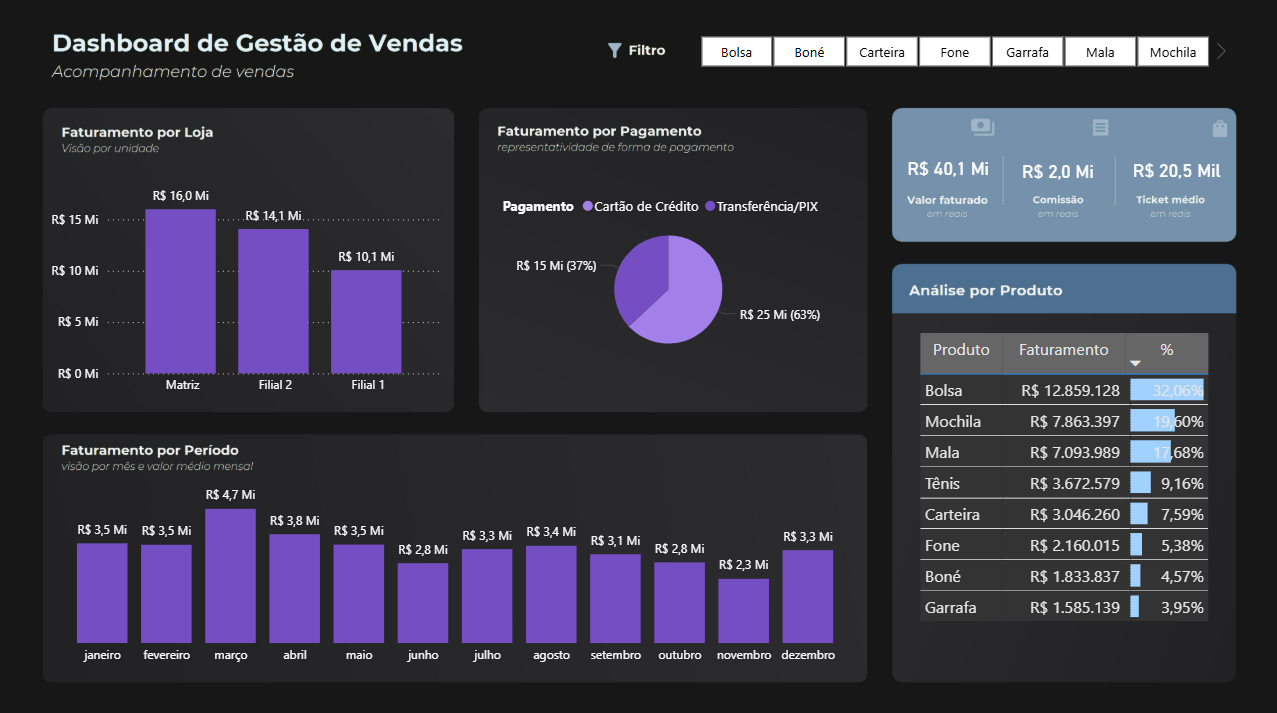

This screenshot's page, from the dashboard's own definition file:
{"tool":"powerbi","page":{"name":"Gestão de Vendas","canvas":[1280,720],"ordinal":0},"visuals":[{"type":"card","fields":{"Values":["Sum(Vendas.Valor Venda)"]},"box":[901.2,145.1,96.3,53.7],"z":0},{"type":"card","fields":{"Values":["Avg(Vendas.Valor Venda)"]},"box":[1120.7,137.8,113.4,74.4],"z":1000},{"type":"columnChart","title":"Faturamento por Período","fields":{"Category":["Vendas.Data Pedido.Variation.Hierarquia de datas.Mês"],"Y":["Sum(Vendas.Valor Venda)"]},"box":[47.6,476.8,818.3,200],"z":2000},{"type":"pieChart","title":"Faturamento por Pagamento","fields":{"Y":["Sum(Vendas.Valor Venda)"],"Category":["Vendas.Pagamento"]},"box":[498.8,189,341.5,178],"z":3000},{"type":"columnChart","title":"Faturamento por Loja","fields":{"Y":["Sum(Vendas.Valor Venda)"],"Category":["lojas.nome_loja"]},"box":[47.6,172,401.2,234.1],"z":4000},{"type":"tableEx","fields":{"Values":["Vendas.Produto","Sum(Vendas.Valor Venda)","Divide(Sum(Vendas.Valor Venda), ScopedEval(Sum(Vendas.Valor Venda), []))"]},"box":[914.6,331.7,319.5,345.1],"z":5000},{"type":"slicer","fields":{"Values":["Vendas.Produto"]},"box":[676.8,32.9,557.3,43.9],"z":6000},{"type":"card","fields":{"Values":["Vendas.Comissão"]},"box":[997.6,148.8,123.2,53.7],"z":7000}]}

Visuals, with their boxes in screenshot pixels (x1, y1, x2, y2), scaled from the page's 1280x720 canvas onto the 1277x713 screenshot:
card - Sum(Vendas.Valor Venda): 899,144,995,197
card - Avg(Vendas.Valor Venda): 1118,136,1231,210
"Faturamento por Período" columnChart: 47,472,864,670
"Faturamento por Pagamento" pieChart: 498,187,838,363
"Faturamento por Loja" columnChart: 47,170,448,402
tableEx - Vendas.Produto x Sum(Vendas.Valor Venda): 912,328,1231,670
slicer - Vendas.Produto: 675,33,1231,76
card - Vendas.Comissão: 995,147,1118,201
